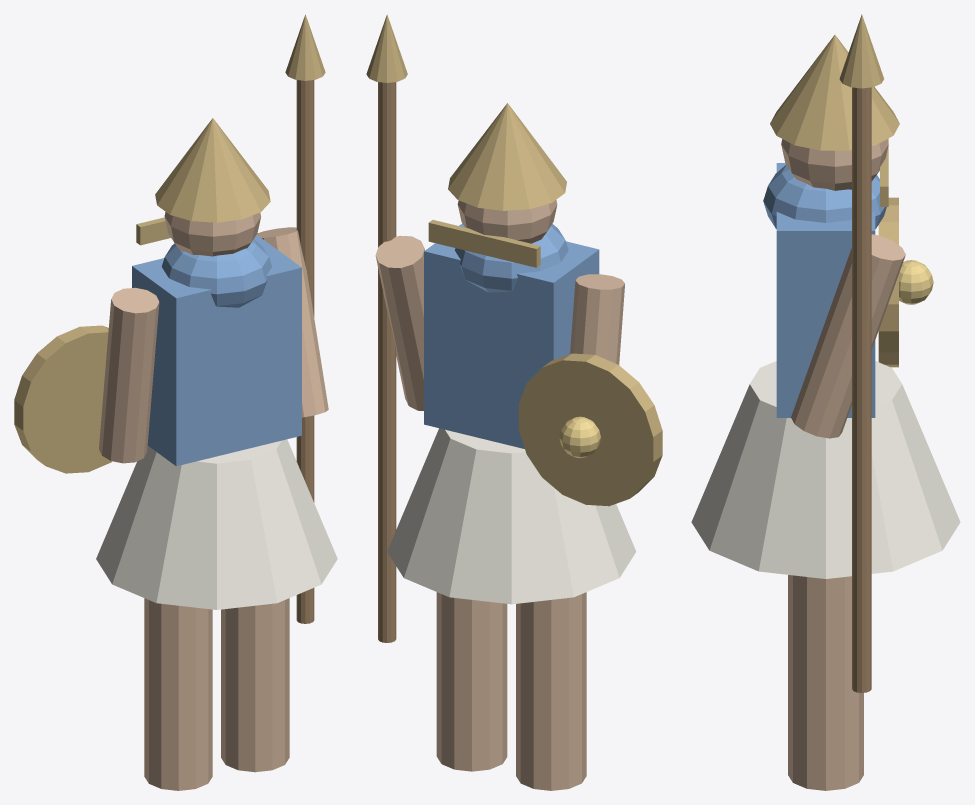
File: warrior_hi.glb
3 views of the same model, side by side, from view 1: azimuth 30°, elevation 25°; view 2: azimuth 150°, elevation 25°; view 3: azimuth 270°, elevation 25° (orthographic). The views are drawn at different scales.
Visible parts, largest first — view 1: Skin, Tunic, Dhoti, Armor, Shaft; view 2: Skin, Dhoti, Armor, Tunic, Shaft, Boss; view 3: Dhoti, Skin, Tunic, Shaft, Armor, Boss.
Boxes of the visible parts, x1=… form: Skin: x1=99, y1=212, x2=328, y2=790; Tunic: x1=132, y1=235, x2=301, y2=466; Dhoti: x1=96, y1=439, x2=337, y2=609; Armor: x1=14, y1=14, x2=325, y2=473; Shaft: x1=296, y1=80, x2=314, y2=623; Skin: x1=375, y1=200, x2=624, y2=790; Dhoti: x1=387, y1=428, x2=636, y2=604; Armor: x1=366, y1=14, x2=662, y2=506; Tunic: x1=424, y1=223, x2=599, y2=448; Shaft: x1=378, y1=82, x2=396, y2=642; Boss: x1=559, y1=416, x2=600, y2=458; Dhoti: x1=691, y1=361, x2=960, y2=578; Skin: x1=781, y1=139, x2=905, y2=790; Tunic: x1=763, y1=163, x2=886, y2=417; Shaft: x1=852, y1=87, x2=871, y2=692; Armor: x1=770, y1=14, x2=899, y2=367; Boss: x1=899, y1=260, x2=933, y2=304.
Size of the model in its own units: 0.8371 by 1.96 by 0.6.
